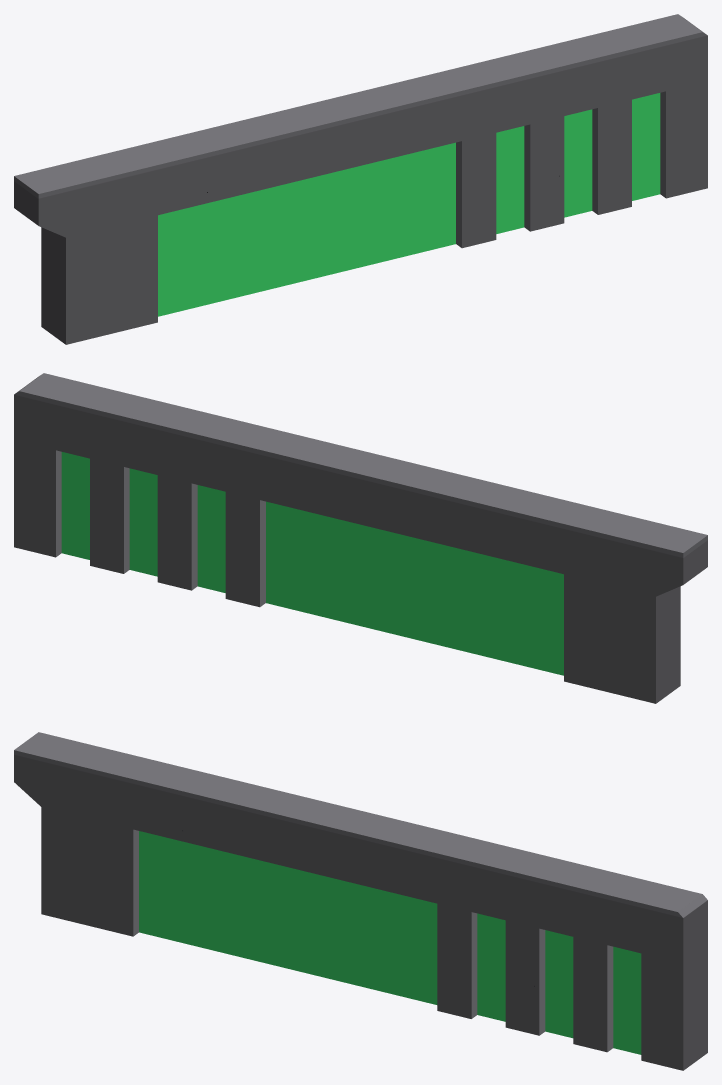
Rendered from build_medium2.fbx.
3 views of the same model, one above another, from view 1: azimuth 30°, elevation 25°; view 2: azimuth 150°, elevation 25°; view 3: azimuth 330°, elevation 25° (orthographic).
Parts seen in each view (by area): view 1: build_medium2; view 2: build_medium2; view 3: build_medium2.
Part boxes in pixels (x1,y1,x2,y2): build_medium2: [14, 14, 707, 344]; build_medium2: [14, 373, 707, 703]; build_medium2: [14, 732, 707, 1070].
Size of the model in its own units: 6262 by 1408 by 400.
